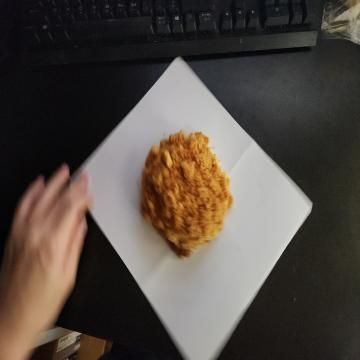soboru_bread: (140, 129, 230, 263)
